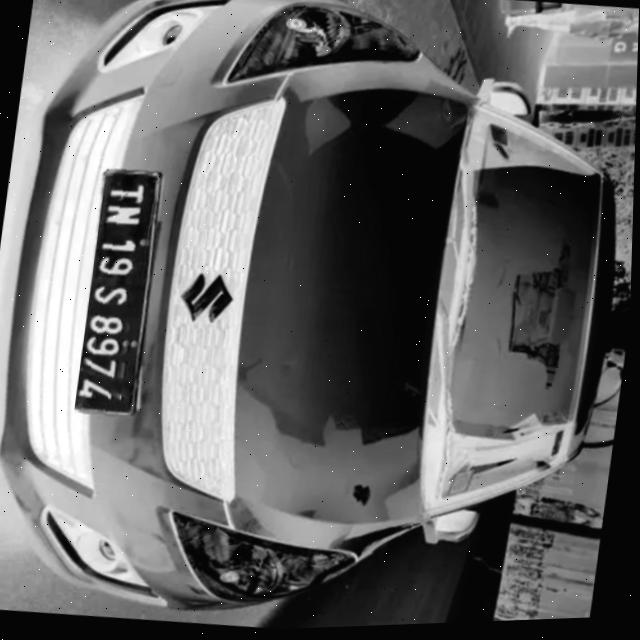Non_registered: (75, 165, 161, 420)
